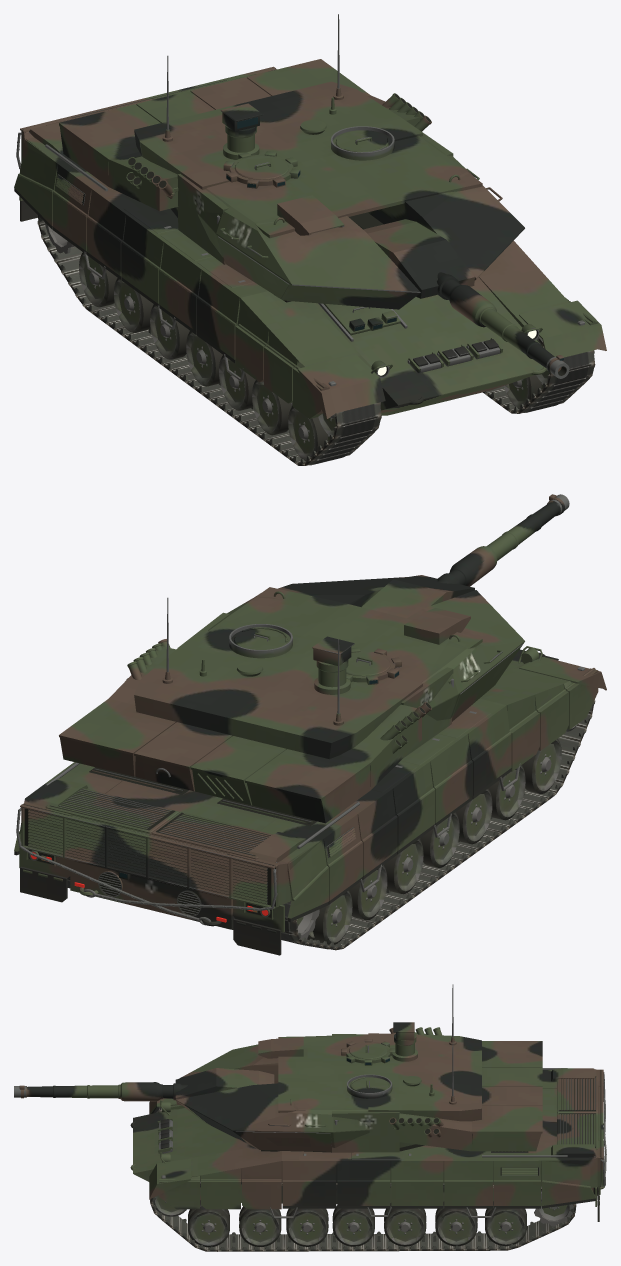
File: leopard2a5.glb
The picture shows the model from 3 angles, top to bottom: view 1: azimuth 30°, elevation 25°; view 2: azimuth 150°, elevation 25°; view 3: azimuth 270°, elevation 25°; orthographic projection. The views are drawn at different scales.
Parts seen in each view (by area): view 1: turret_shell, hull_shell, gun_shell, band_r, band_l, disc_r3, disc_r9, disc_r7, disc_r1, disc_r6, disc_r11, disc_r4 (+1 smaller); view 2: turret_shell, hull_shell, gun_shell, band_r, disc_r11, disc_r1, disc_r7, disc_r6, disc_r4, disc_r9, disc_r3; view 3: turret_shell, hull_shell, band_l, gun_shell, disc_l4, disc_l6, disc_l7, disc_l1, disc_l9, disc_l3, disc_l11, disc_l12.
Boxes of the visible parts, x1,y1,x2,y2 form: turret_shell: [59, 14, 524, 309]; hull_shell: [14, 66, 606, 418]; gun_shell: [349, 212, 569, 378]; band_r: [37, 215, 381, 465]; band_l: [483, 336, 595, 413]; disc_r3: [252, 380, 292, 435]; disc_r9: [114, 278, 153, 332]; disc_r7: [150, 304, 189, 359]; disc_r1: [288, 406, 329, 461]; disc_r6: [186, 331, 222, 386]; disc_r11: [79, 252, 117, 307]; disc_r4: [219, 355, 255, 410]; turret_shell: [59, 577, 524, 823]; hull_shell: [14, 646, 606, 955]; gun_shell: [362, 494, 569, 618]; band_r: [281, 699, 595, 950]; disc_r11: [305, 890, 352, 944]; disc_r1: [522, 738, 561, 793]; disc_r7: [384, 839, 423, 894]; disc_r6: [419, 812, 459, 867]; disc_r4: [455, 789, 492, 844]; disc_r9: [349, 865, 387, 920]; disc_r3: [488, 765, 525, 820]; turret_shell: [175, 984, 542, 1152]; hull_shell: [130, 1068, 606, 1221]; band_l: [150, 1181, 576, 1251]; gun_shell: [14, 1068, 274, 1105]; disc_l4: [286, 1208, 328, 1246]; disc_l6: [332, 1205, 374, 1246]; disc_l7: [384, 1203, 426, 1246]; disc_l1: [188, 1200, 229, 1247]; disc_l9: [435, 1201, 477, 1246]; disc_l3: [239, 1206, 281, 1246]; disc_l11: [485, 1201, 526, 1246]; disc_l12: [534, 1191, 573, 1226].
Size of the model in its own units: 3.8 by 3.54 by 9.82.
5 materials, 3 textured.
